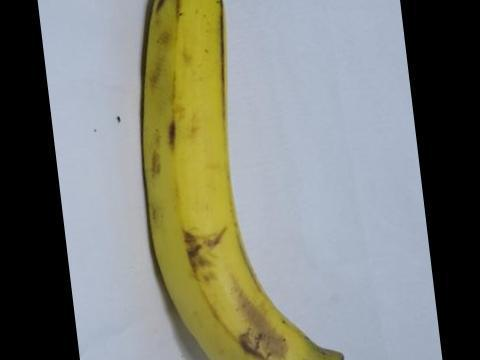ripe: (126, 0, 355, 359)
